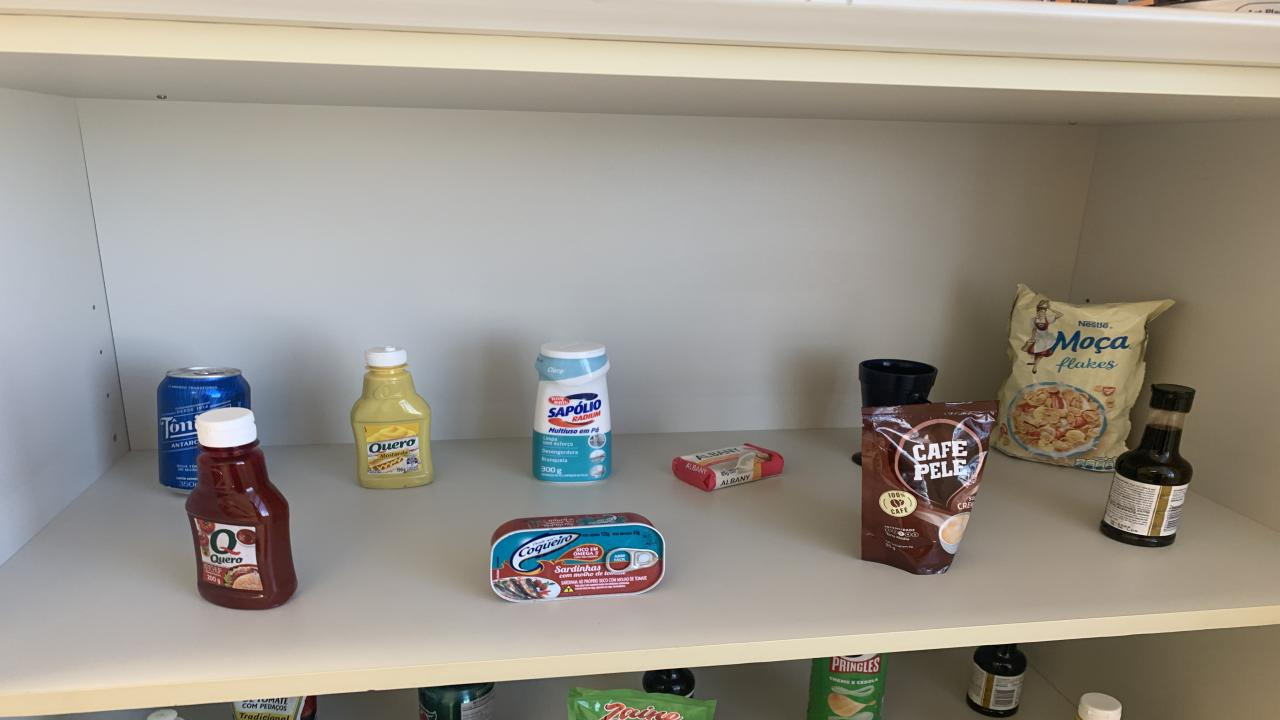Cleaner-Cleanup_Items: (532, 341, 610, 482)
Coffee-Pantry_Items: (862, 401, 998, 574)
English_Sauce-Pantry_Items: (1100, 384, 1195, 548), (968, 645, 1028, 718), (642, 668, 695, 698)
Flakes-Snacks: (992, 285, 1172, 471)
Guarana_Can-Drinks: (418, 682, 495, 720)
Ketchup-Pantry_Items: (185, 407, 298, 609)
Mustard-Pantry_Items: (350, 347, 432, 489), (1078, 692, 1122, 720)
Pringles-Snacks: (808, 652, 888, 720)
Soap-Cleanup_Items: (672, 444, 782, 491)
Tomato_Sauce-Pantry_Items: (568, 686, 715, 720), (232, 696, 318, 720)
Tonic-Drinks: (158, 368, 250, 493)
Tuna_Can-Pantry_Items: (490, 512, 665, 604)
